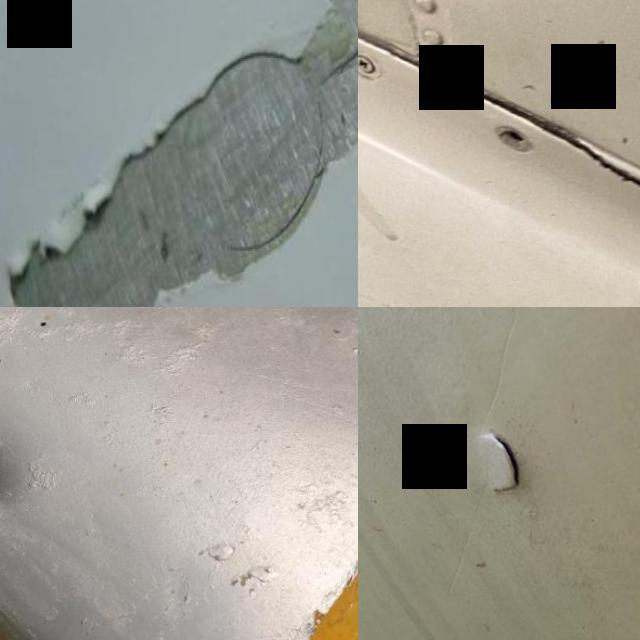Crack: (538, 126, 640, 213), (456, 418, 536, 504), (302, 0, 358, 118)
Dent: (0, 399, 52, 539)
Missing_Fastener: (492, 128, 530, 150)
